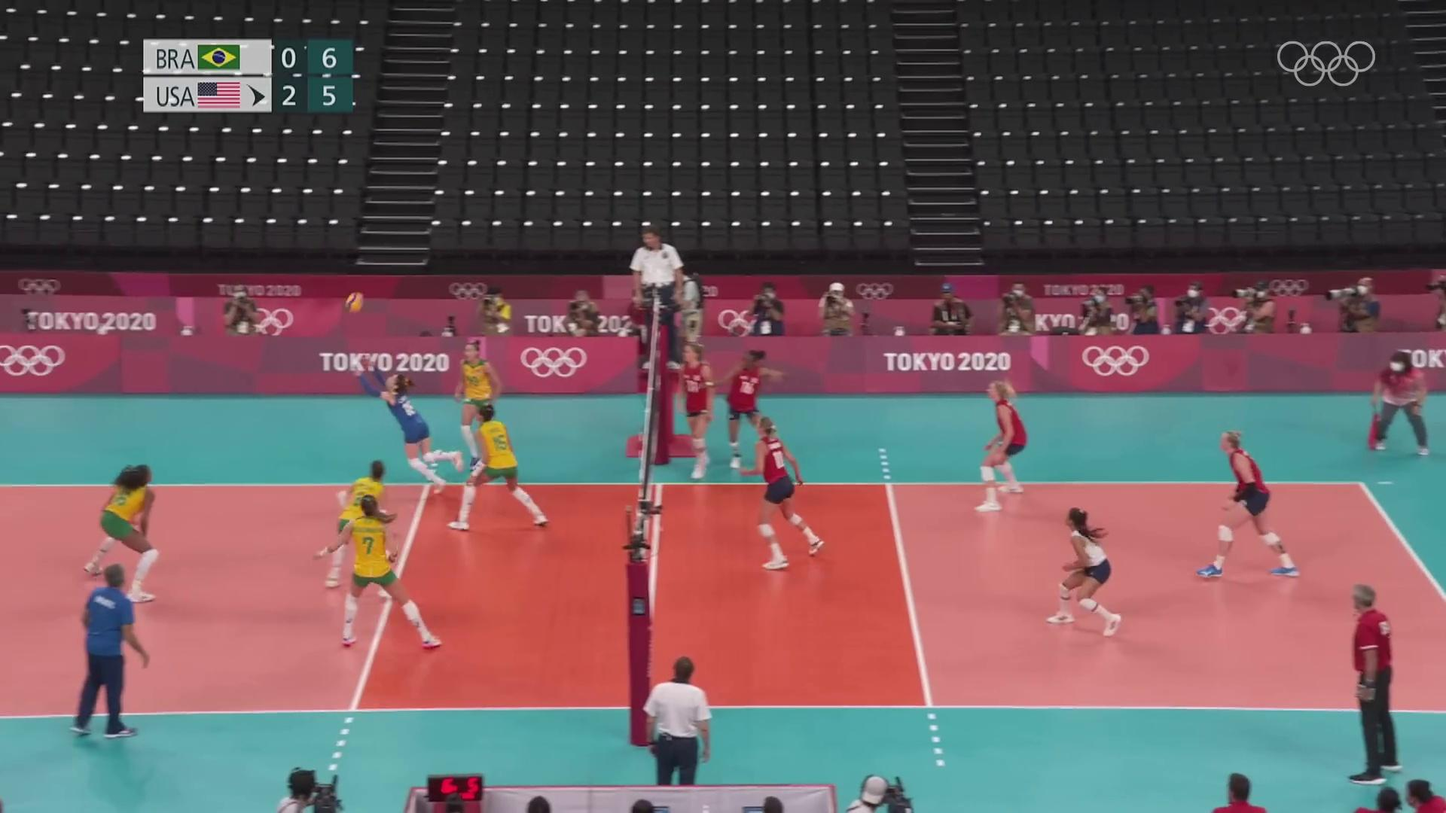player: (319, 496, 448, 648), (1198, 431, 1303, 580), (355, 358, 462, 494), (446, 401, 547, 528), (749, 419, 825, 568), (84, 465, 163, 603), (1048, 507, 1127, 635), (321, 459, 398, 589), (722, 348, 785, 486), (975, 381, 1034, 511), (455, 340, 507, 469), (674, 340, 718, 481)
refree: (633, 659, 715, 787), (632, 225, 685, 350), (1371, 351, 1430, 457)
